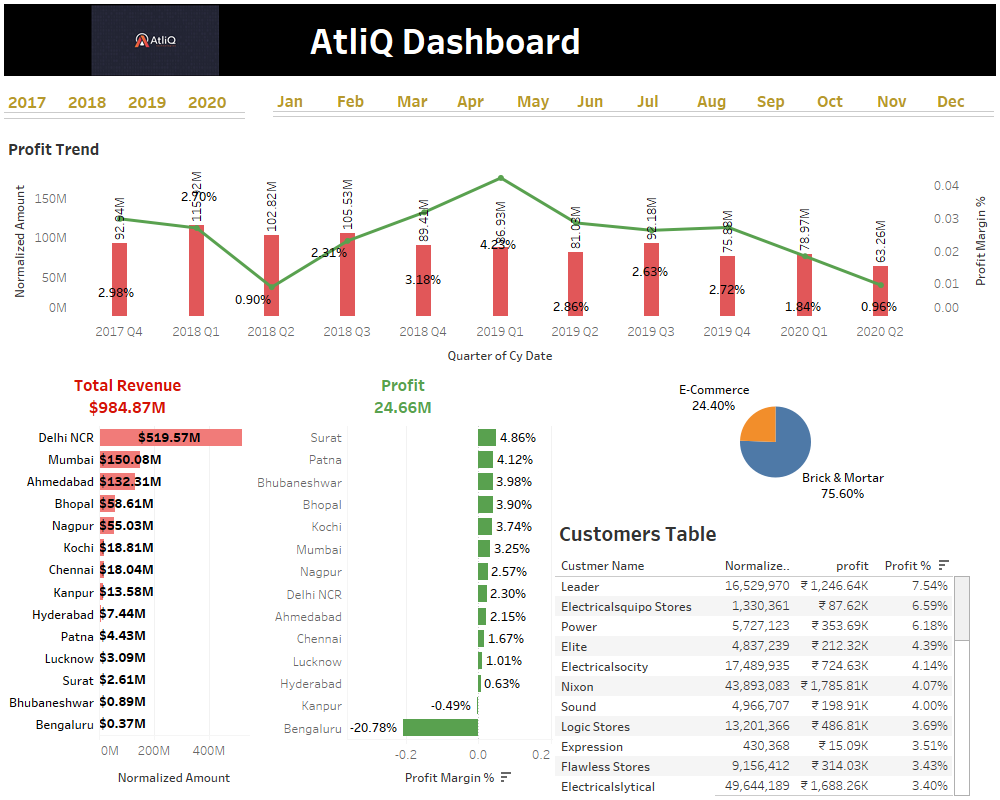

The page's visual inventory and layout, read from the dashboard file:
{"tool":"tableau","page":{"name":"Dashboard - Profit Analysis","canvas":[1000,800],"ordinal":0},"visuals":[{"type":"image","param":"Image/maxresdefault.jpg","box":[4,4,303,71.7]},{"type":"text","box":[307,4,689,71.7]},{"type":"worksheet","title":"Year","mark":"Automatic","cols":["cy_date"],"box":[4,75.7,269,56.3]},{"type":"worksheet","title":"Month","mark":"Automatic","cols":["cy_date"],"box":[273,75.7,723,56.3]},{"type":"worksheet","title":"Profit Trend","mark":"Automatic","rows":["Calculation_810929423181910016","Calculation_261208793934917632"],"cols":["cy_date"],"box":[4,132,992,239]},{"type":"worksheet","title":"Revenue","mark":"Automatic","box":[4,371,248,52]},{"type":"worksheet","title":"Profit","mark":"Automatic","box":[252,371,303,52]},{"type":"worksheet","title":"Pie Chart Brick & Mortar","mark":"Pie","box":[555,371,441,142]},{"type":"worksheet","title":"Revenue By Market","mark":"Automatic","rows":["markets_name"],"cols":["Calculation_810929423181910016"],"box":[4,423,248,373]},{"type":"worksheet","title":"Profit Margin By Market","mark":"Automatic","rows":["markets_name"],"cols":["Calculation_261208793934917632"],"box":[252,423,303,373]},{"type":"worksheet","title":"Customer Table","mark":"Automatic","rows":["custmer_name"],"box":[555,513,441,283]}]}

Visuals, with their boxes in screenshot pixels (x1, y1, x2, y2), scaled from the page's 1000x800 canvas onto the 1000x800 screenshot:
image: pyautogui.locateOnScreen(4, 4, 307, 76)
text: pyautogui.locateOnScreen(307, 4, 996, 76)
"Year" worksheet: pyautogui.locateOnScreen(4, 76, 273, 132)
"Month" worksheet: pyautogui.locateOnScreen(273, 76, 996, 132)
"Profit Trend" worksheet: pyautogui.locateOnScreen(4, 132, 996, 371)
"Revenue" worksheet: pyautogui.locateOnScreen(4, 371, 252, 423)
"Profit" worksheet: pyautogui.locateOnScreen(252, 371, 555, 423)
"Pie Chart Brick & Mortar" worksheet (Pie marks): pyautogui.locateOnScreen(555, 371, 996, 513)
"Revenue By Market" worksheet: pyautogui.locateOnScreen(4, 423, 252, 796)
"Profit Margin By Market" worksheet: pyautogui.locateOnScreen(252, 423, 555, 796)
"Customer Table" worksheet: pyautogui.locateOnScreen(555, 513, 996, 796)
